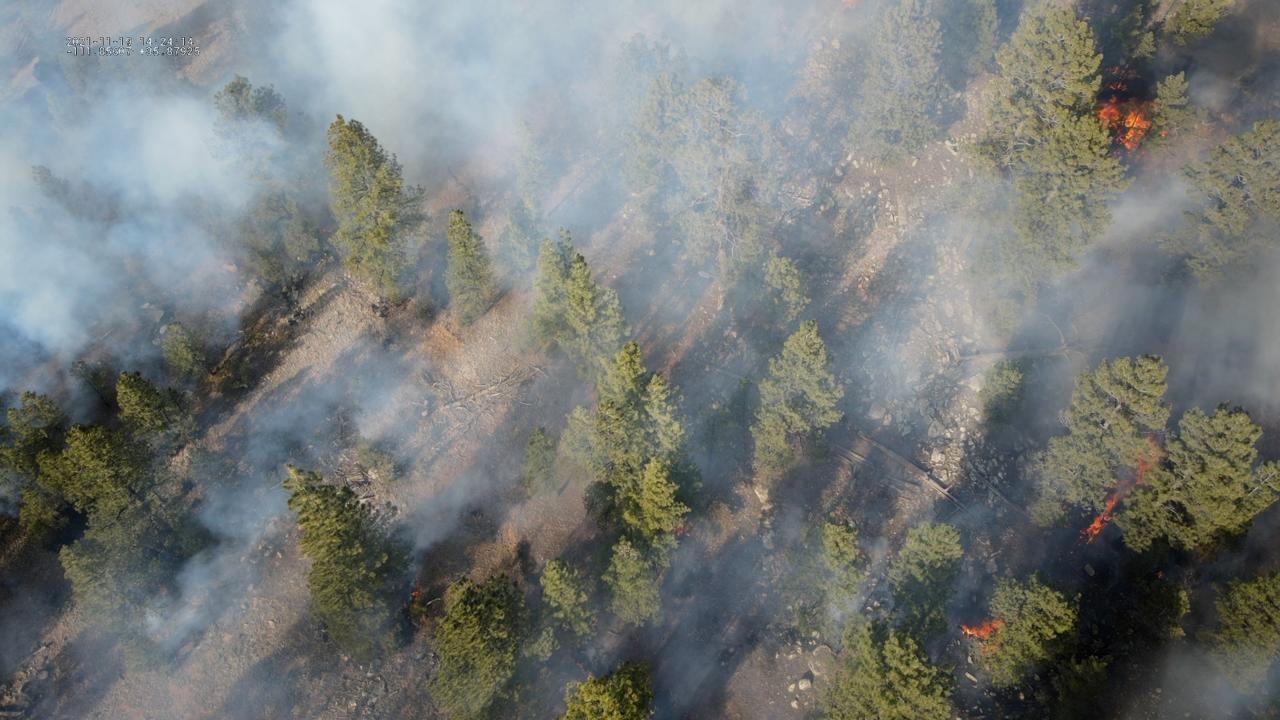fire: (1080, 451, 1161, 545), (1097, 95, 1157, 152), (957, 615, 1006, 641), (409, 589, 422, 598), (1110, 82, 1121, 91), (1159, 129, 1169, 138), (1110, 66, 1119, 75)
smoke: (0, 0, 1280, 720), (1158, 653, 1280, 720)
